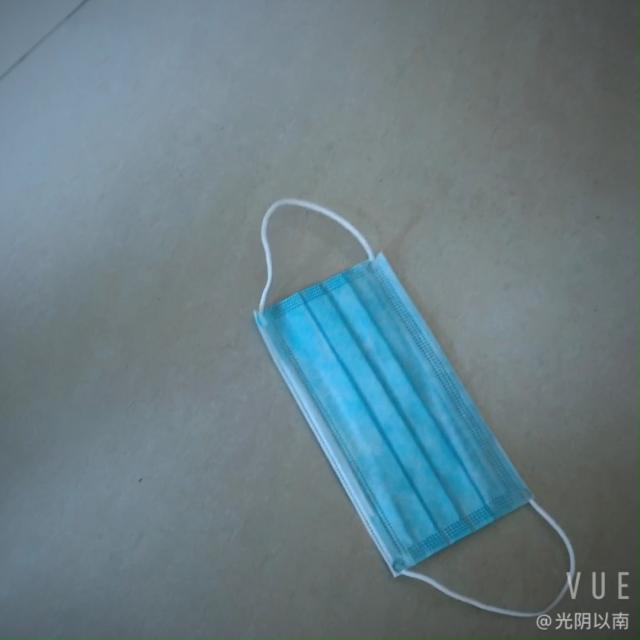non-organic waste: (275, 256, 514, 580)
